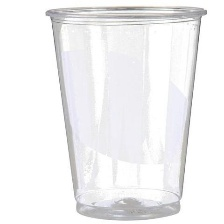glass: (42, 4, 212, 223)
